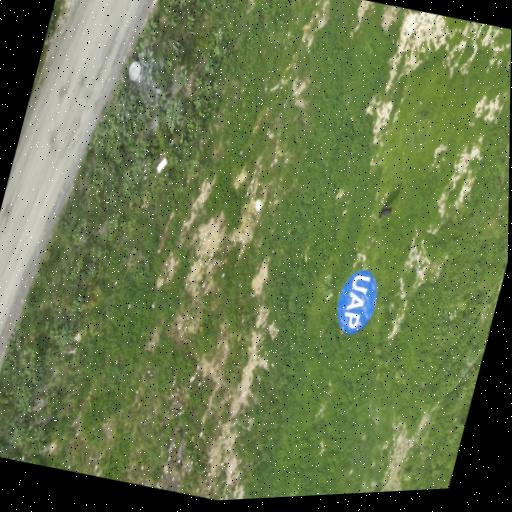person: (378, 208, 391, 219)
uap: (337, 270, 377, 334)
